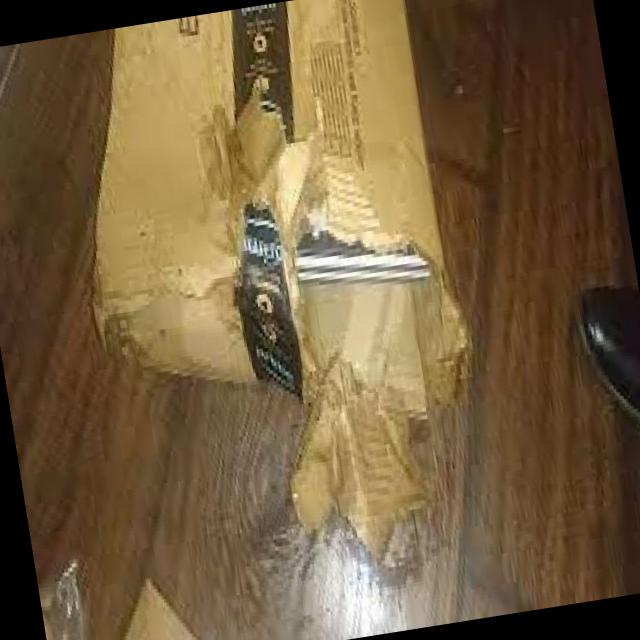box: (89, 1, 474, 415)
crushed: (89, 83, 467, 408)
